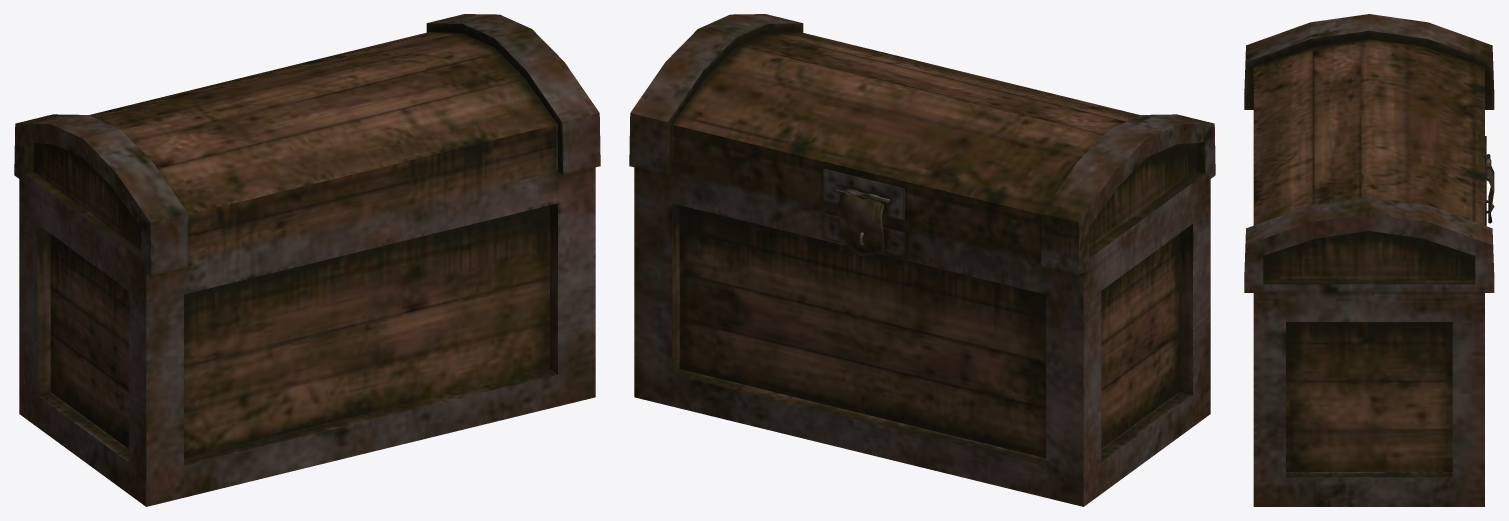
The picture shows the model from 3 angles, left to right: view 1: azimuth 30°, elevation 25°; view 2: azimuth 150°, elevation 25°; view 3: azimuth 270°, elevation 25°; orthographic projection. The views are drawn at different scales.
Parts seen in each view (by area): view 1: Chest_Chest_0; view 2: Chest_Chest_0; view 3: Chest_Chest_0.
Boxes of the visible parts, x1,y1,x2,y2 form: Chest_Chest_0: (14,14,600,506); Chest_Chest_0: (629,14,1215,506); Chest_Chest_0: (1244,14,1494,506).
Size of the model in its own units: 1200 by 822 by 636.
1 material, 1 textured.
